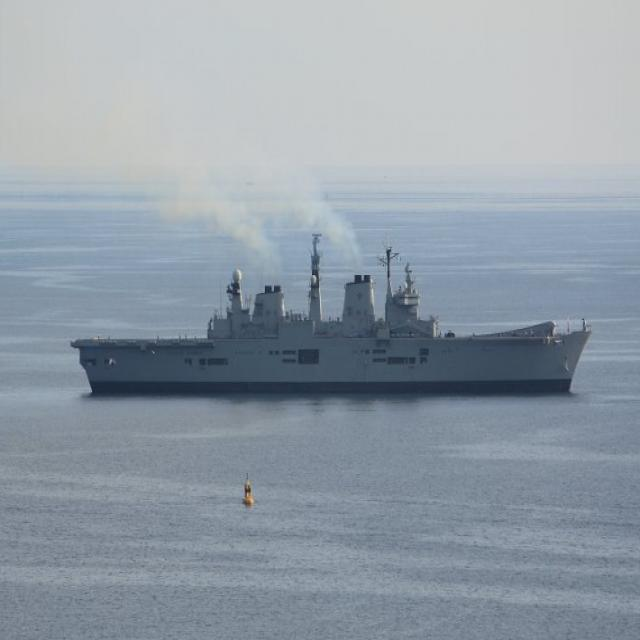Portanaves: (68, 215, 593, 405)
